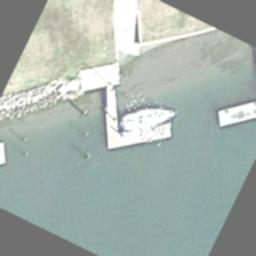boat: (116, 91, 178, 149)
